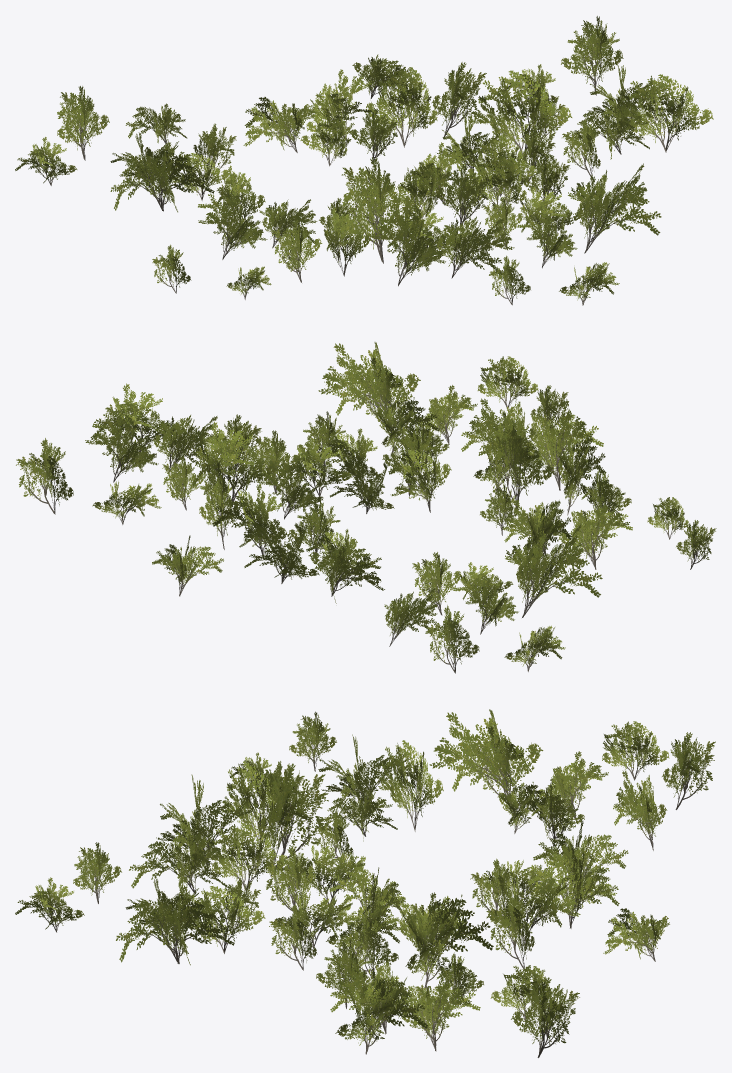
Rendered from MLRT_Tree_Far_Group_01.fbx.
3 renders of one model, top to bottom at view 1: azimuth 30°, elevation 25°; view 2: azimuth 150°, elevation 25°; view 3: azimuth 270°, elevation 25°, orthographic. The views are drawn at different scales.
Parts seen in each view (by area): view 1: MLRT_Tree_Far_Group_01_LOD0; view 2: MLRT_Tree_Far_Group_01_LOD0; view 3: MLRT_Tree_Far_Group_01_LOD0.
Boxes of the visible parts, x1,y1,x2,y2 form: MLRT_Tree_Far_Group_01_LOD0: [15, 16, 713, 305]; MLRT_Tree_Far_Group_01_LOD0: [16, 342, 716, 673]; MLRT_Tree_Far_Group_01_LOD0: [15, 709, 715, 1057].
Size of what is drawn, in the model's own units: 49.89 by 8.6 by 47.06.
